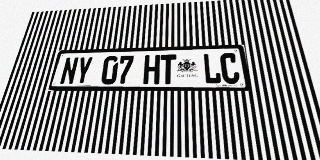0: (100, 56, 119, 85)
7: (116, 55, 134, 84)
C: (220, 53, 240, 84)
H: (143, 55, 160, 84)
L: (203, 53, 222, 84)
N: (59, 57, 79, 85)
T: (160, 54, 176, 84)
Y: (74, 57, 93, 85)
